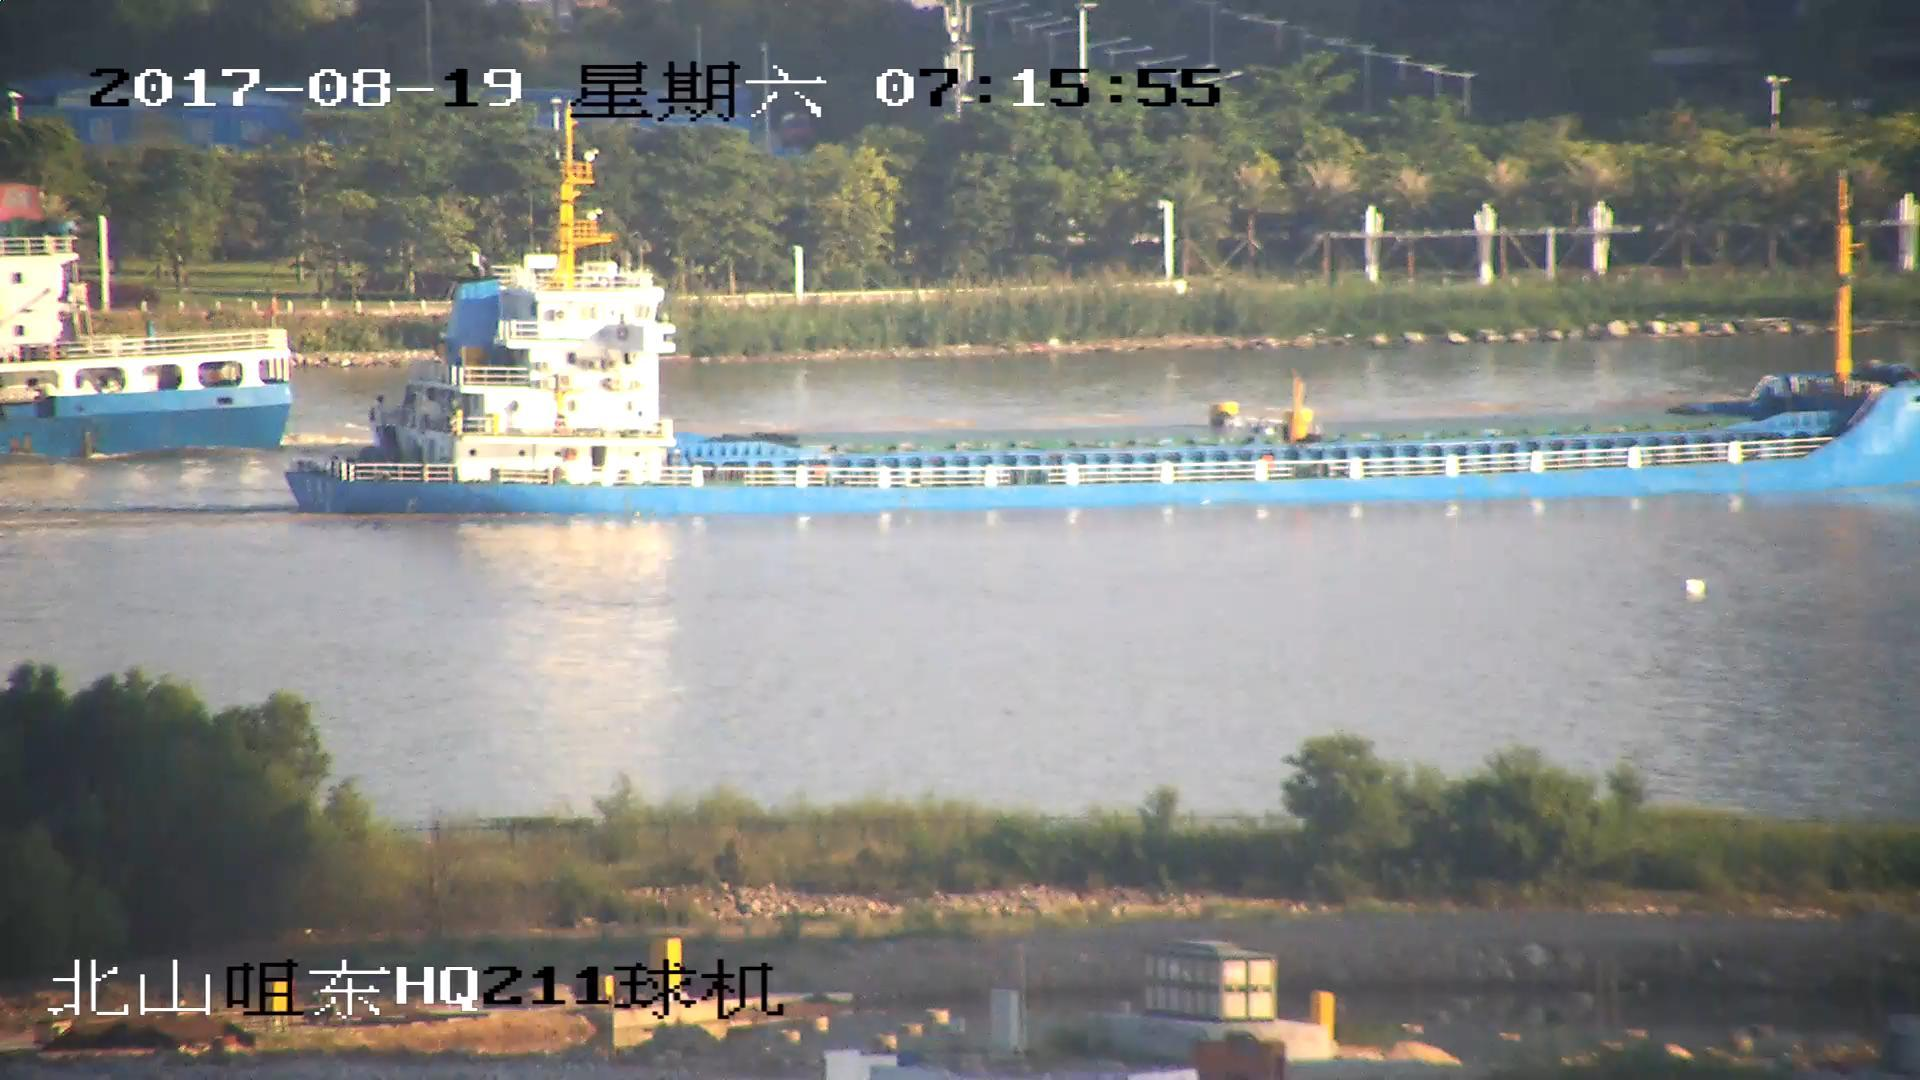Ship: (280, 109, 1920, 512), (3, 113, 291, 460)
